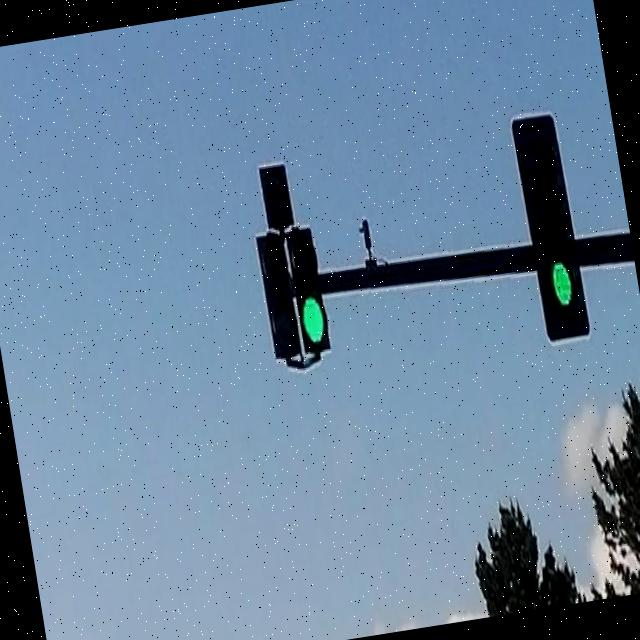Zielone swiatlo: (512, 111, 594, 336), (286, 228, 334, 361)
